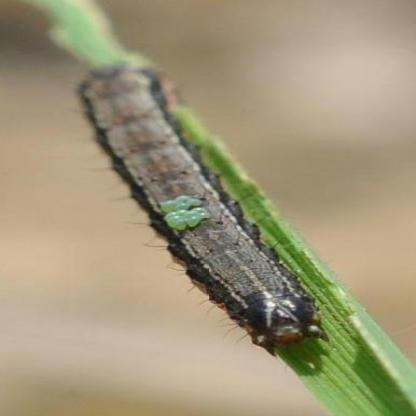armyworm: (72, 57, 339, 389)
